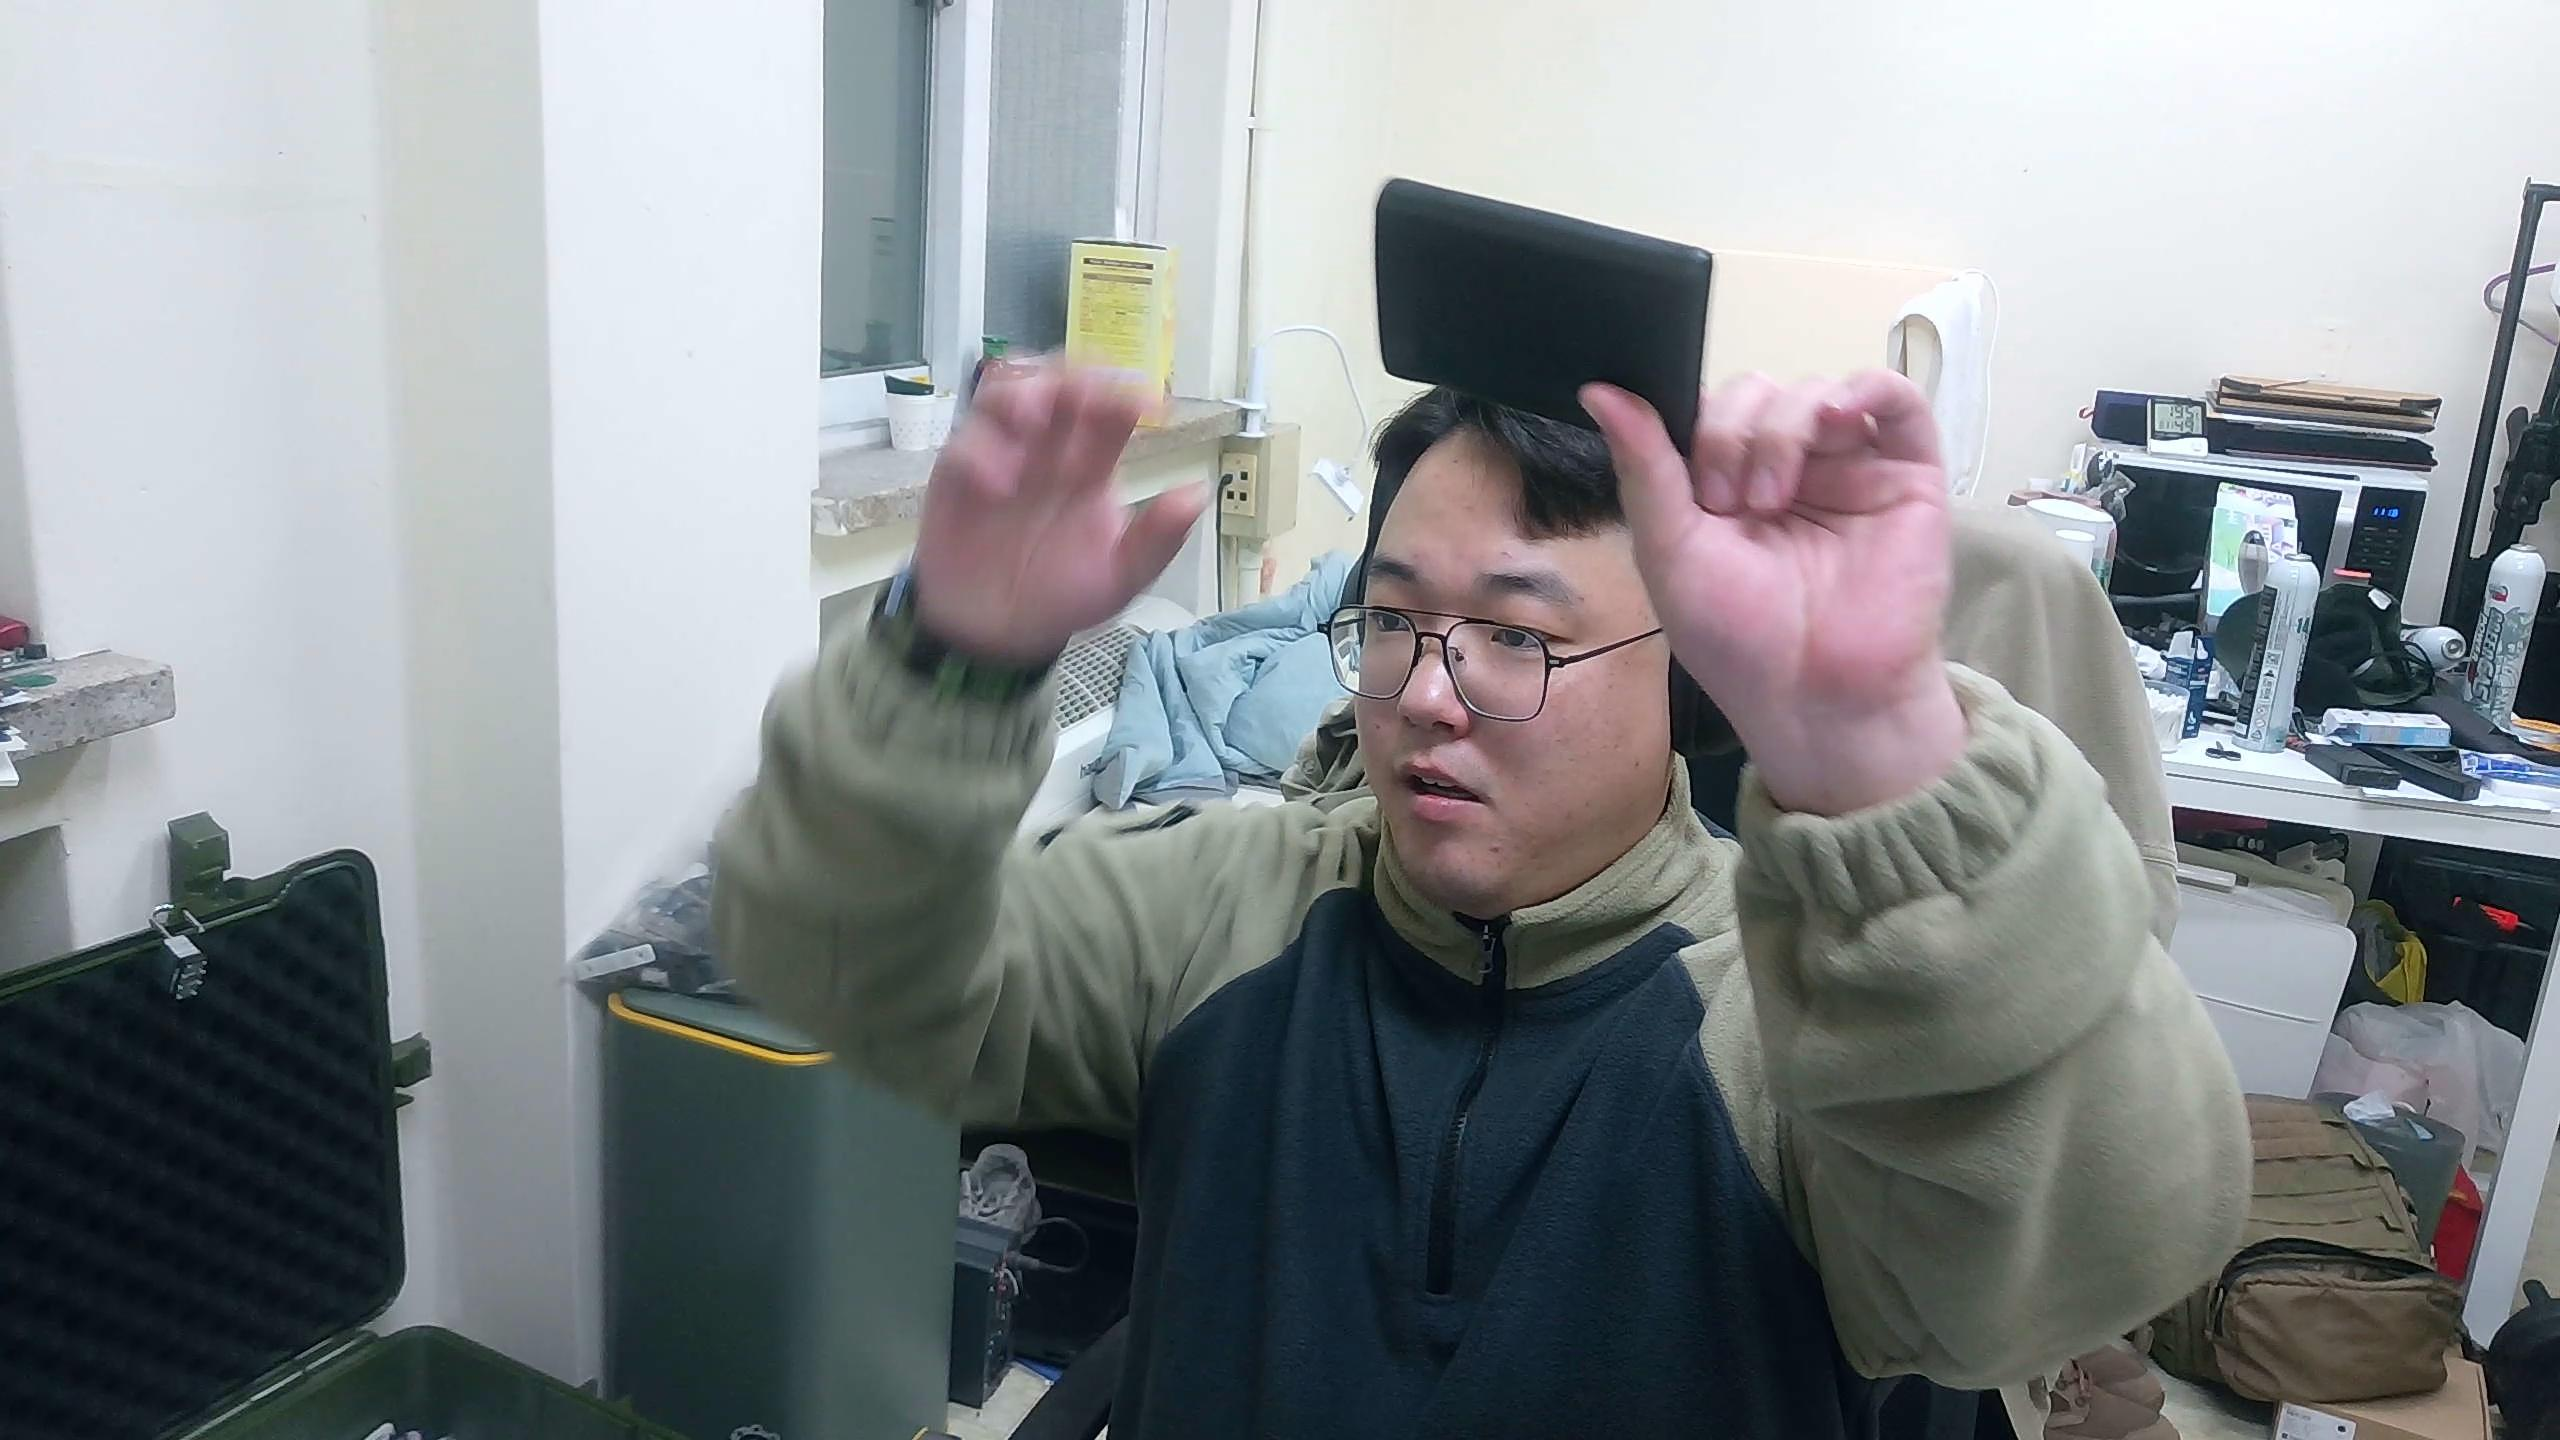Wallet: (1373, 172, 1720, 461)
